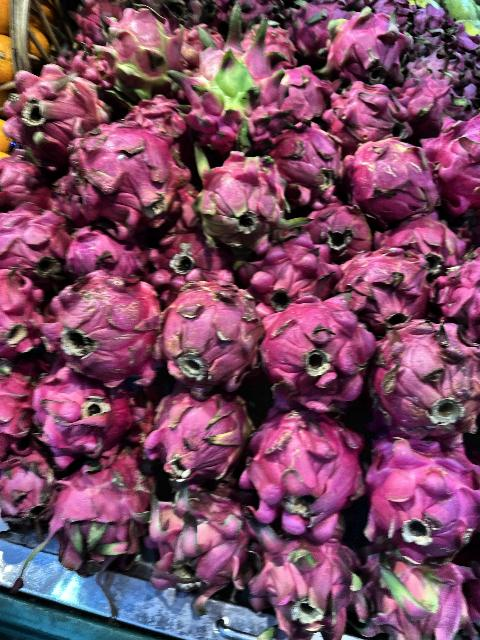buah-naga-belum-matang: (164, 22, 292, 146), (178, 136, 298, 250), (358, 546, 476, 640), (92, 5, 184, 106)
buah-naga-matang: (238, 503, 366, 639), (255, 284, 374, 414), (358, 428, 480, 550), (370, 306, 480, 436), (65, 116, 181, 234), (256, 410, 372, 526), (52, 272, 166, 386), (143, 482, 249, 602), (50, 452, 152, 574), (154, 284, 268, 388), (24, 360, 138, 460), (0, 64, 106, 158), (148, 394, 255, 486), (344, 130, 442, 220), (328, 80, 424, 156), (343, 248, 432, 324), (324, 11, 414, 85), (418, 105, 480, 209), (272, 122, 350, 200), (233, 247, 335, 306), (377, 209, 475, 265), (0, 256, 50, 364), (66, 229, 154, 289), (305, 192, 383, 256), (2, 451, 58, 537), (1, 206, 66, 278), (440, 250, 480, 330)
